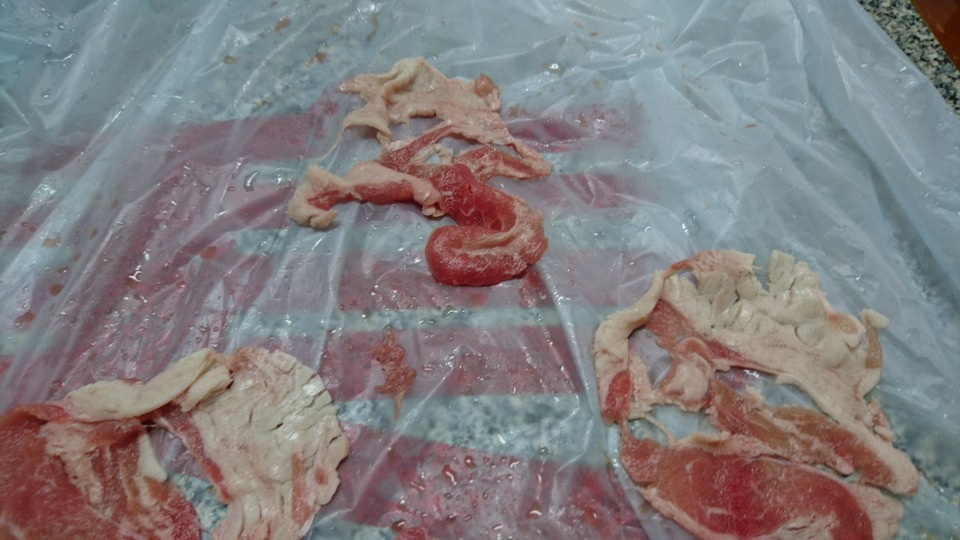restructured meat: (585, 242, 920, 540), (1, 340, 350, 540), (291, 55, 553, 284)
